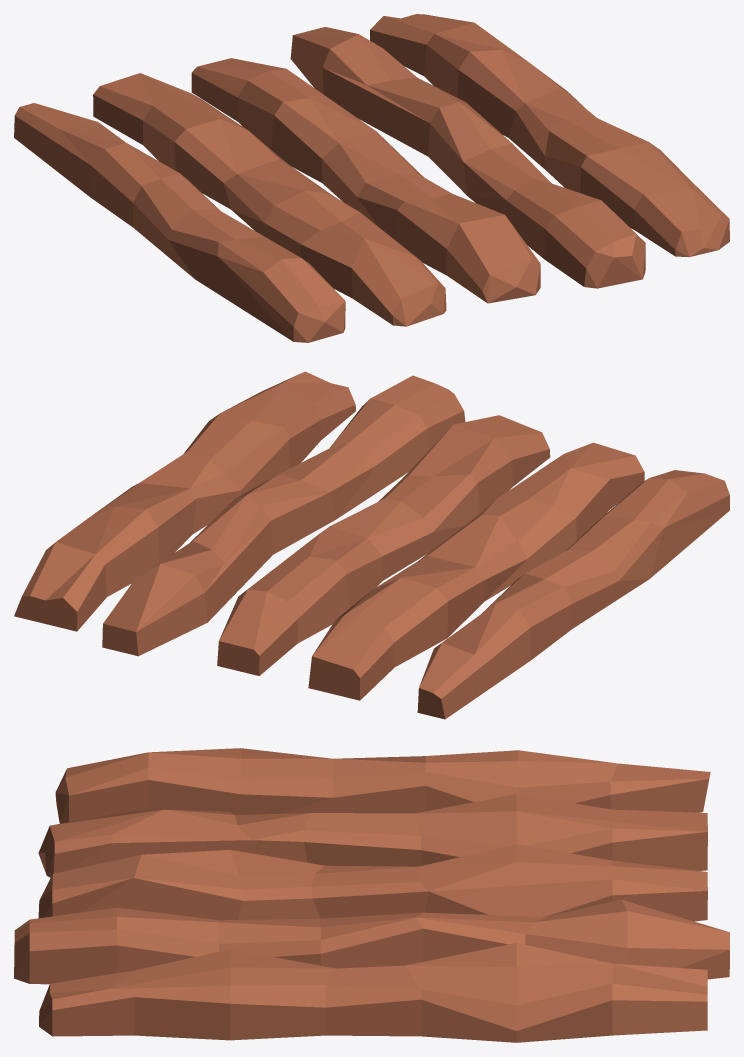
Rendered from Field_04.fbx.
3 views of the same model, one above another, from view 1: azimuth 30°, elevation 25°; view 2: azimuth 150°, elevation 25°; view 3: azimuth 270°, elevation 25° (orthographic). The views are drawn at different scales.
Visible parts, largest first — view 1: Field_04.001, Field_04.004, Field_04.002, Field_04.003, Field_04; view 2: Field_04.003, Field_04.001, Field_04.002, Field_04.004, Field_04; view 3: Field_04.004, Field_04.002, Field_04.003, Field_04, Field_04.001.
Boxes of the visible parts, x1=… form: Field_04.001: x1=93, y1=73, x2=446, y2=326; Field_04.004: x1=370, y1=14, x2=729, y2=257; Field_04.002: x1=191, y1=58, x2=540, y2=303; Field_04.003: x1=290, y1=27, x2=645, y2=288; Field_04: x1=14, y1=103, x2=345, y2=342; Field_04.003: x1=102, y1=375, x2=465, y2=656; Field_04.001: x1=308, y1=442, x2=644, y2=700; Field_04.002: x1=217, y1=415, x2=550, y2=675; Field_04.004: x1=14, y1=371, x2=355, y2=631; Field_04: x1=417, y1=470, x2=729, y2=719; Field_04.004: x1=39, y1=943, x2=707, y2=1042; Field_04.002: x1=38, y1=844, x2=707, y2=921; Field_04.003: x1=14, y1=899, x2=729, y2=984; Field_04: x1=55, y1=748, x2=710, y2=823; Field_04.001: x1=38, y1=794, x2=707, y2=877.
Size of the model in its own units: 565 by 65.43 by 681.
